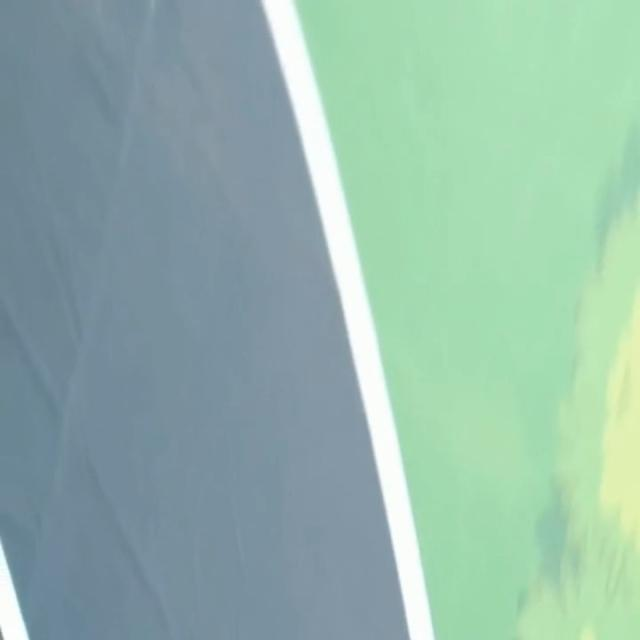right: (262, 0, 434, 639)
